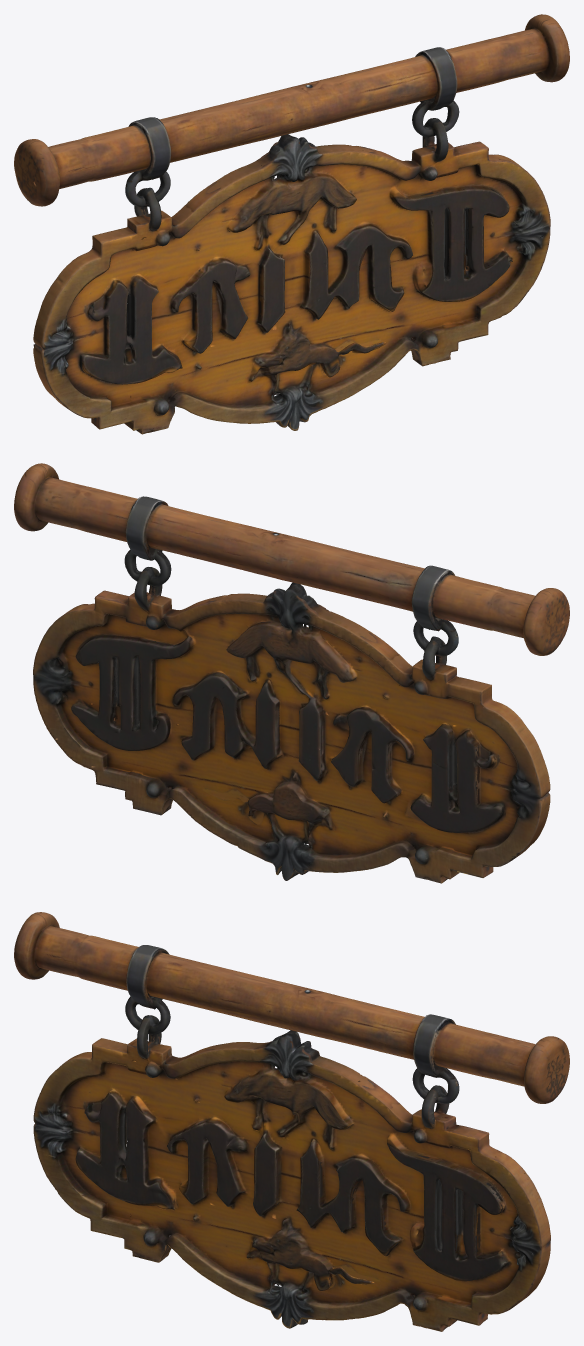
File: rustic_bar_sign_medie_0717205047_texture.fbx
The picture shows the model from 3 angles, top to bottom: view 1: azimuth 30°, elevation 25°; view 2: azimuth 150°, elevation 25°; view 3: azimuth 330°, elevation 25°; orthographic projection.
Visible parts, largest first — view 1: Mesh_0; view 2: Mesh_0; view 3: Mesh_0.
Part boxes in pixels (bbox=[...]): Mesh_0: bbox=[14, 14, 569, 434]; Mesh_0: bbox=[14, 463, 569, 883]; Mesh_0: bbox=[14, 912, 569, 1331].
Bounding box in the file's own units: 200 × 127 × 23.3.
Materials: 1 (1 with a texture image).
